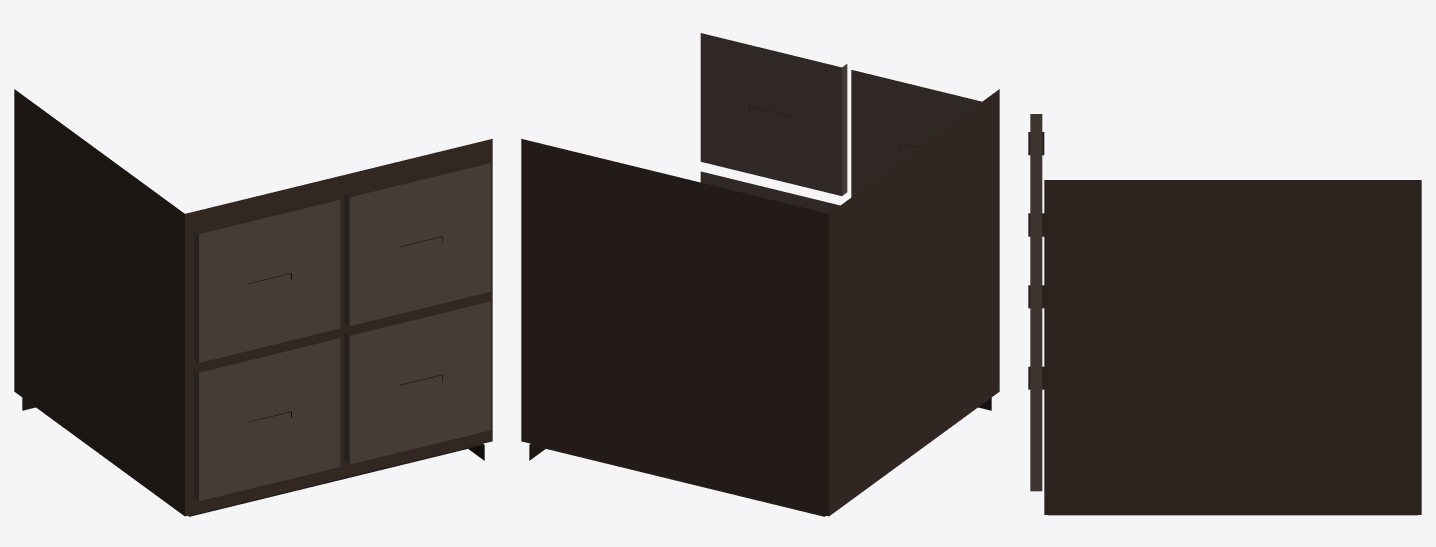
Rendered from Storage-wenge.glb.
3 views of the same model, side by side, from view 1: azimuth 30°, elevation 25°; view 2: azimuth 150°, elevation 25°; view 3: azimuth 270°, elevation 25° (orthographic). The views are drawn at different scales.
Visible parts, largest first — view 1: Storage; view 2: Storage; view 3: Storage.
Part boxes in pixels (x1,y1,x2,y2): Storage: [14, 89, 492, 516]; Storage: [521, 33, 999, 516]; Storage: [1028, 114, 1421, 515].
Bounding box in the file's own units: 1 × 1 × 1.
